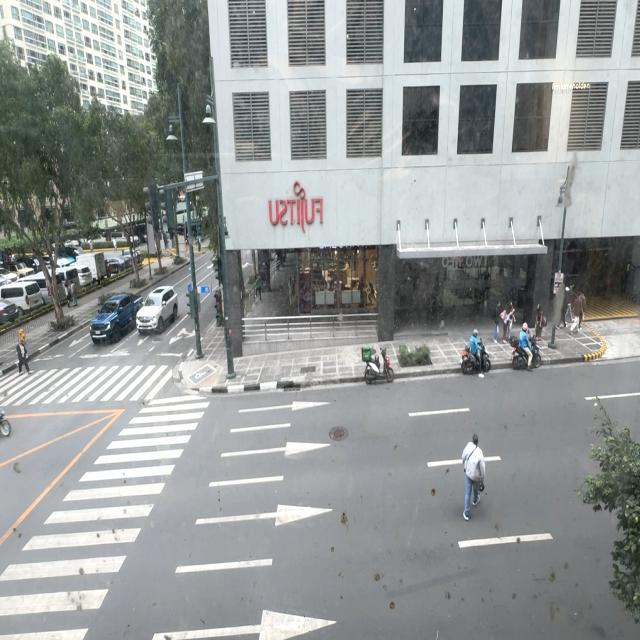jaywalking: (462, 430, 485, 520)
